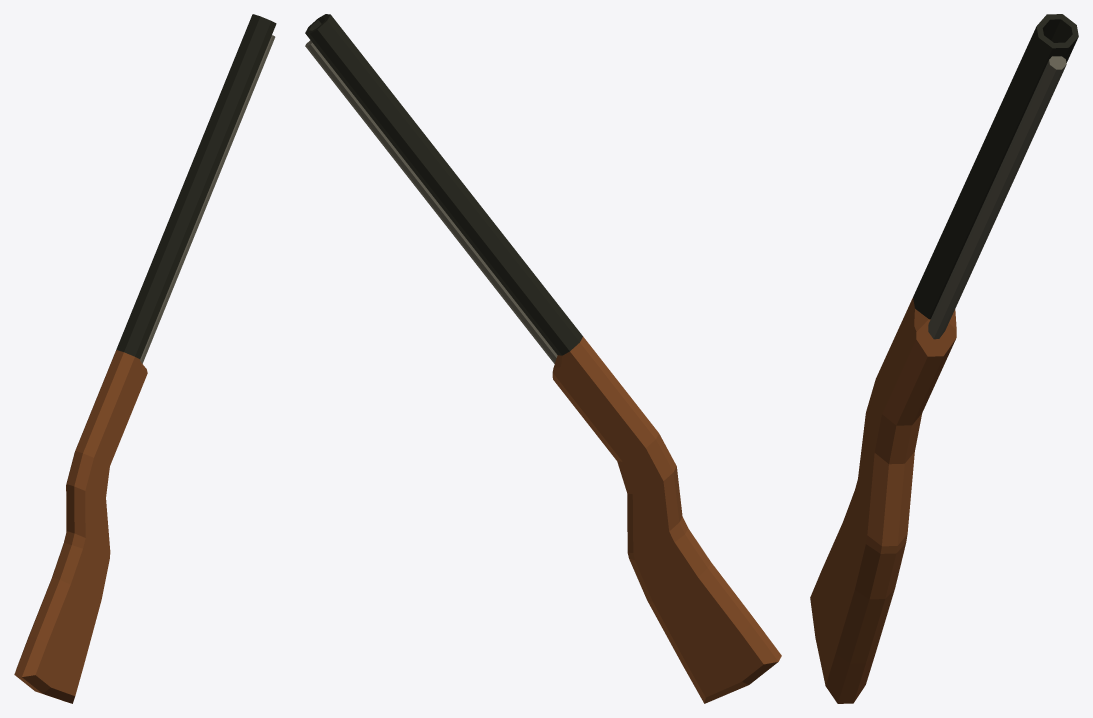
The model's file is Rifle.gltf.
3 views of the same model, side by side, from view 1: azimuth 30°, elevation 25°; view 2: azimuth 150°, elevation 25°; view 3: azimuth 270°, elevation 25° (orthographic). The views are drawn at different scales.
Visible parts, largest first — view 1: Rifle; view 2: Rifle; view 3: Rifle.
Part boxes in pixels (left/top/right/bottom): Rifle: left=14, top=14, right=276, bottom=703; Rifle: left=305, top=14, right=781, bottom=703; Rifle: left=810, top=14, right=1078, bottom=703.
Bounding box in the file's own units: 0.3439 × 0.5676 × 0.1567.
Materials: 1 (1 with a texture image).
